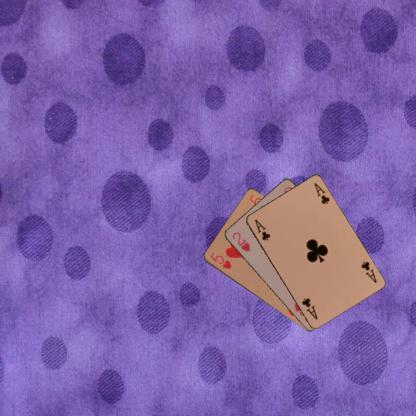2h: (229, 230, 251, 252)
5h: (207, 250, 233, 270)
Ac: (358, 258, 378, 284), (252, 217, 271, 242)
